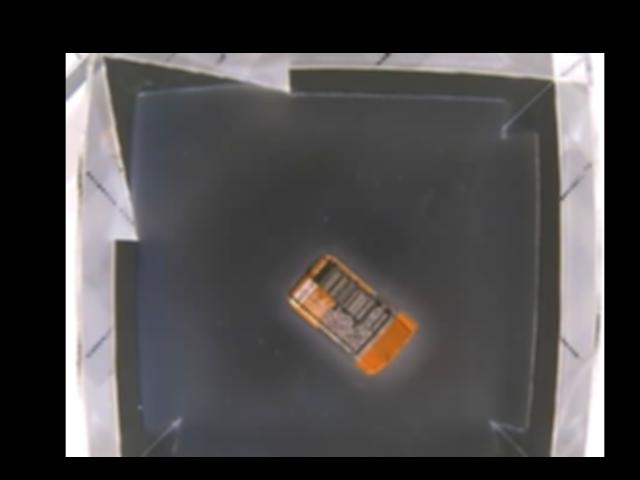Bottle: (287, 255, 416, 377)
